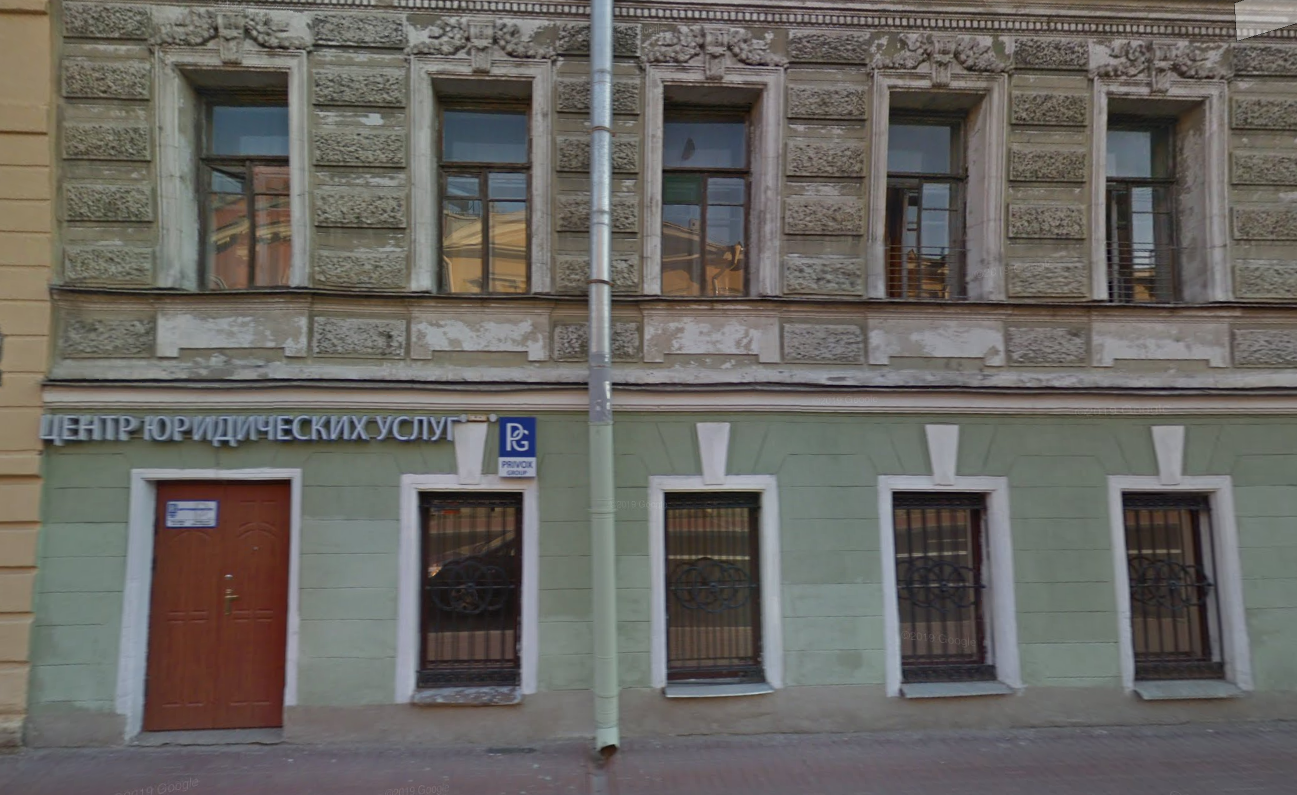door: (143, 475, 284, 729)
signboard: (37, 406, 542, 483)
window: (659, 489, 767, 694), (1122, 487, 1226, 683), (421, 490, 520, 685), (891, 488, 992, 677), (197, 96, 294, 291), (439, 102, 535, 297), (663, 104, 748, 301), (1099, 113, 1184, 306), (887, 104, 962, 300)
